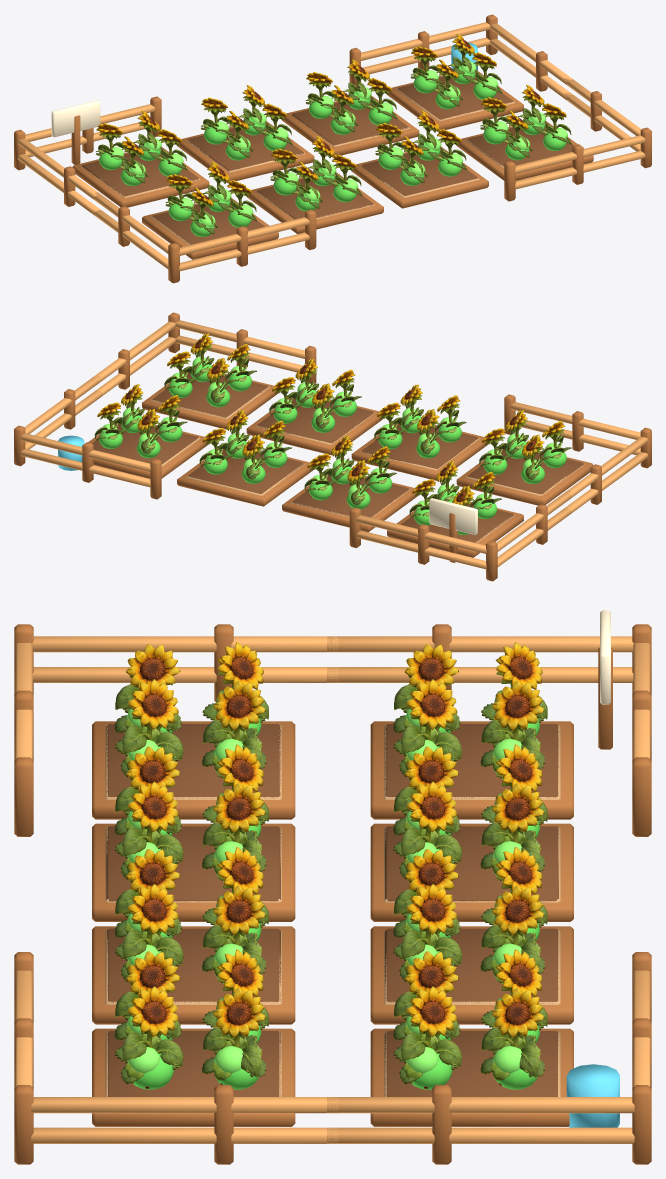
File: farm-garden-v5.glb
The picture shows the model from 3 angles, top to bottom: view 1: azimuth 30°, elevation 25°; view 2: azimuth 150°, elevation 25°; view 3: azimuth 270°, elevation 25°; orthographic projection. The views are drawn at different scales.
Parts seen in each view (by area): view 1: P6_SoilWet, P7_SoilWet, P2_SoilWet, P3_SoilWet, P4_SoilWet, BedFrame_6, P1_SoilWet, P2_Stage3_Sunflower, P8_Stage3_Sunflower, P7_Stage3_Sunflower, P6_Stage3_Sunflower, P5_Stage3_Sunflower (+52 smaller); view 2: P2_SoilWet, P7_SoilWet, P6_SoilWet, P3_SoilWet, P5_SoilWet, P8_SoilWet, P1_Stage3_Sunflower, P2_Stage3_Sunflower, P8_Stage3_Sunflower, P5_Stage3_Sunflower, P7_Stage3_Sunflower, P3_Stage3_Sunflower (+50 smaller); view 3: P1_Stage3_Sunflower, P5_Stage3_Sunflower, P6_Stage3_Sunflower, P2_Stage3_Sunflower, P3_Stage3_Sunflower, P8_Stage3_Sunflower, P4_Stage3_Sunflower, P7_Stage3_Sunflower, P7_SoilWet, P3_SoilWet, P2_SoilWet, P1_SoilWet (+50 smaller).
Part boxes in pixels (x1,y1,x2,y2): P6_SoilWet: [361, 150, 477, 195]; P7_SoilWet: [256, 176, 373, 219]; P2_SoilWet: [292, 99, 408, 145]; P3_SoilWet: [187, 125, 303, 170]; P4_SoilWet: [82, 150, 198, 196]; BedFrame_6: [352, 146, 488, 208]; P1_SoilWet: [397, 73, 513, 119]; P2_Stage3_Sunflower: [306, 59, 396, 122]; P8_Stage3_Sunflower: [166, 161, 256, 224]; P7_Stage3_Sunflower: [271, 136, 361, 198]; P6_Stage3_Sunflower: [376, 110, 466, 172]; P5_Stage3_Sunflower: [481, 85, 571, 147]; P2_SoilWet: [188, 449, 304, 493]; P7_SoilWet: [362, 424, 478, 468]; P6_SoilWet: [257, 398, 373, 443]; P3_SoilWet: [292, 475, 409, 517]; P5_SoilWet: [152, 372, 268, 418]; P8_SoilWet: [467, 449, 583, 494]; P1_Stage3_Sunflower: [94, 384, 180, 453]; P2_Stage3_Sunflower: [199, 410, 285, 478]; P8_Stage3_Sunflower: [479, 410, 565, 478]; P5_Stage3_Sunflower: [164, 333, 250, 402]; P7_Stage3_Sunflower: [374, 384, 460, 453]; P3_Stage3_Sunflower: [304, 435, 390, 504]; P1_Stage3_Sunflower: [394, 949, 547, 1076]; P5_Stage3_Sunflower: [115, 949, 268, 1077]; P6_Stage3_Sunflower: [115, 847, 268, 967]; P2_Stage3_Sunflower: [394, 847, 547, 967]; P3_Stage3_Sunflower: [394, 744, 547, 864]; P8_Stage3_Sunflower: [115, 642, 268, 762]; P4_Stage3_Sunflower: [394, 642, 547, 762]; P7_Stage3_Sunflower: [115, 744, 268, 864]; P7_SoilWet: [106, 826, 280, 901]; P3_SoilWet: [385, 826, 558, 901]; P2_SoilWet: [385, 928, 558, 1003]; P1_SoilWet: [385, 1031, 558, 1096].
Bounding box in the file's own units: 9.16 × 1.05 × 5.26.
11 materials, 3 textured.
